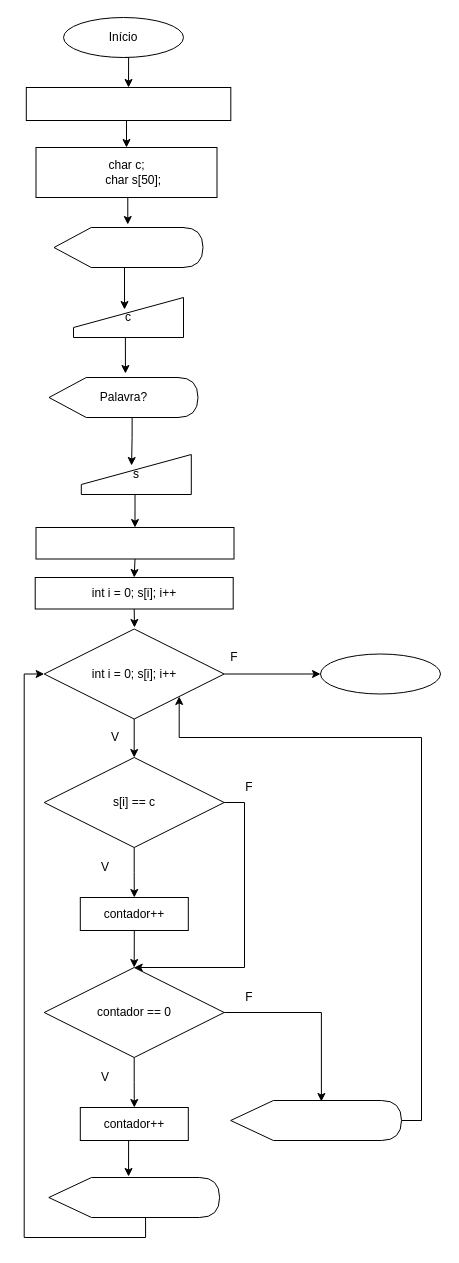
Some shapes in this 459 by 1263 pixel diagram are drawn without their labels. Each missing label, with the centre of its shape:
Fim: (x=380, y=673)
identificaOcorrencia( c, s ): (x=134, y=542)
identificaOcorrencia( char c, char s[] ): (x=128, y=103)
Letra?: (x=128, y=247)
N%co h%c ocorr%cncia!: (x=316, y=1120)
O caractere '%c' ocorre '%d' vezes na palavra '%s'!: (x=134, y=1197)
